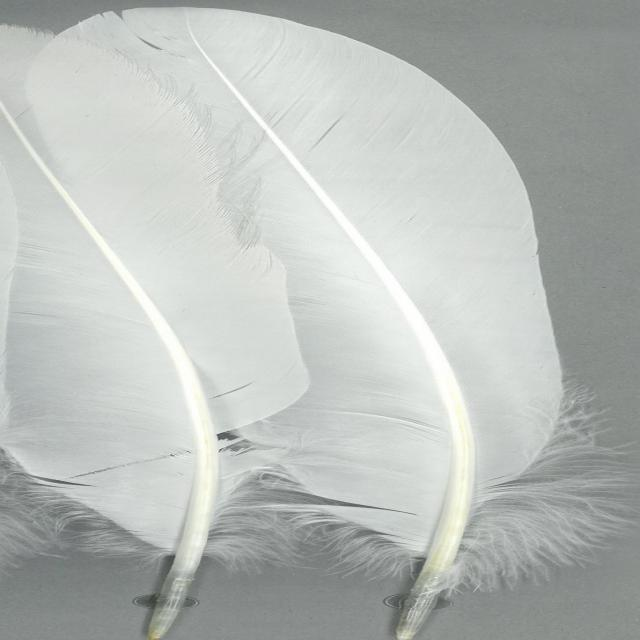feather: (31, 4, 640, 640), (0, 24, 308, 638)
